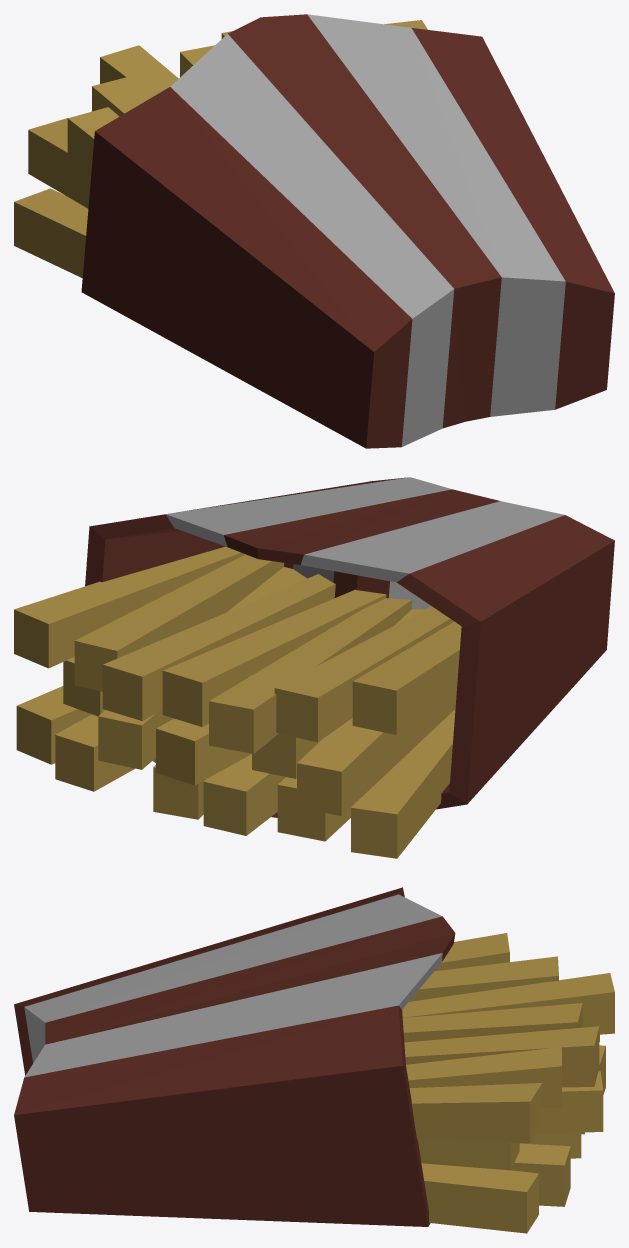
The model's file is fries.glb.
The picture shows the model from 3 angles, top to bottom: view 1: azimuth 30°, elevation 25°; view 2: azimuth 150°, elevation 25°; view 3: azimuth 270°, elevation 25°; orthographic projection. The views are drawn at different scales.
Parts seen in each view (by area): view 1: Fries; view 2: Fries; view 3: Fries.
Part boxes in pixels (x1,y1,x2,y2): Fries: (14, 14, 614, 448); Fries: (14, 477, 614, 858); Fries: (14, 887, 614, 1233).
Size of the model in its own units: 0.9488 by 0.5858 by 1.33.
